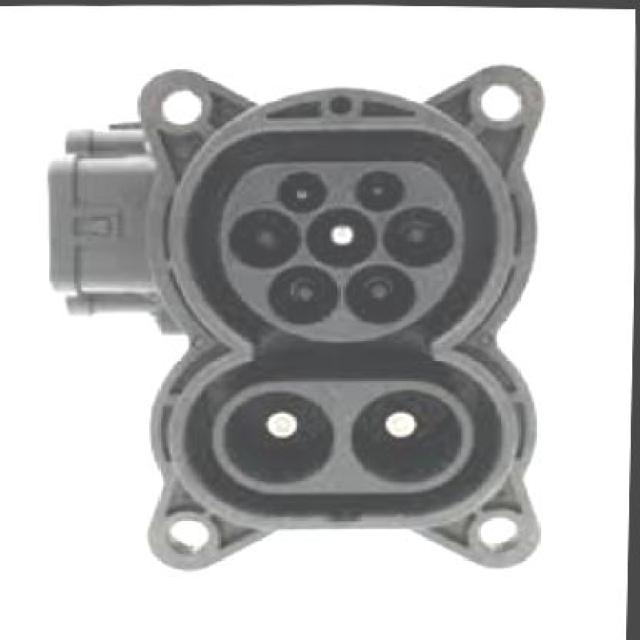CCS2: (182, 121, 493, 540)
